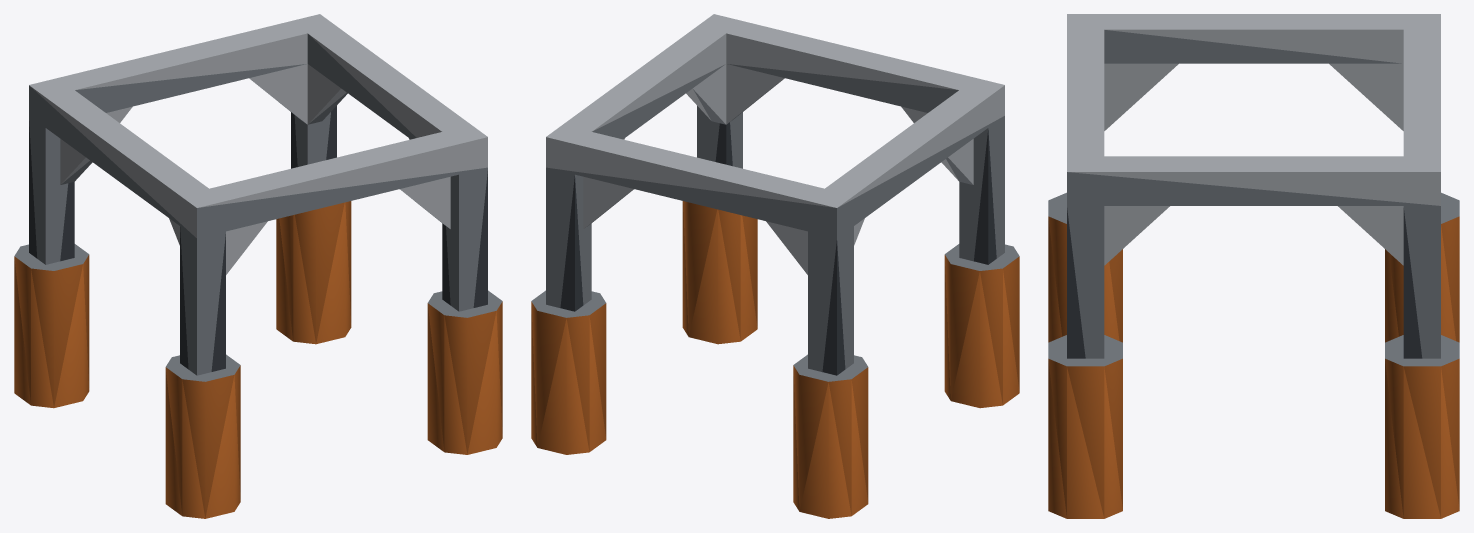
File: Kit_structure-barrier-high.fbx
The picture shows the model from 3 angles, left to right: view 1: azimuth 30°, elevation 25°; view 2: azimuth 150°, elevation 25°; view 3: azimuth 270°, elevation 25°; orthographic projection. The views are drawn at different scales.
Parts seen in each view (by area): view 1: Kit_structure-barrier-high; view 2: Kit_structure-barrier-high; view 3: Kit_structure-barrier-high.
Boxes of the visible parts, x1,y1,x2,y2 form: Kit_structure-barrier-high: [14, 14, 502, 518]; Kit_structure-barrier-high: [531, 14, 1019, 518]; Kit_structure-barrier-high: [1048, 14, 1459, 518].
Size of the model in its own units: 1.1 by 1 by 1.1.
